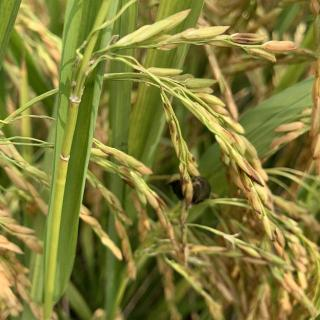Gosong-Palsu: (170, 172, 212, 206)
